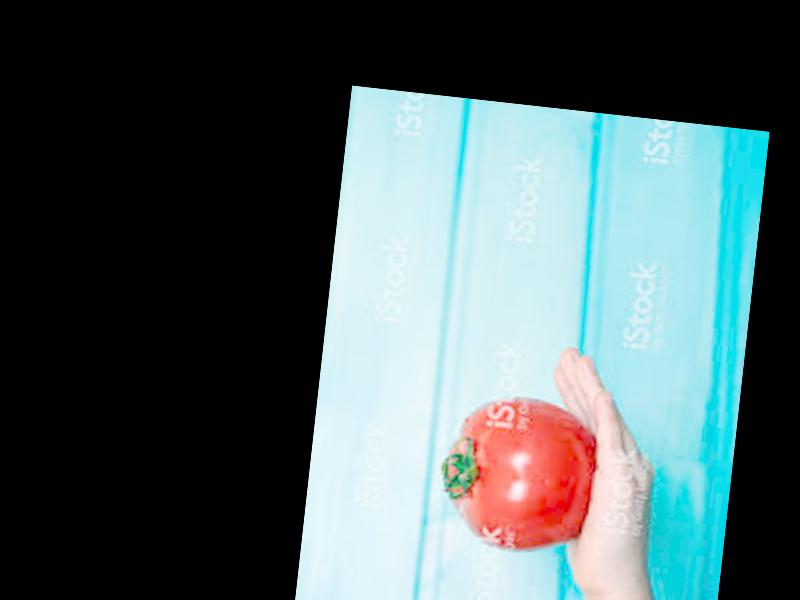Tomato: (436, 389, 603, 555)
